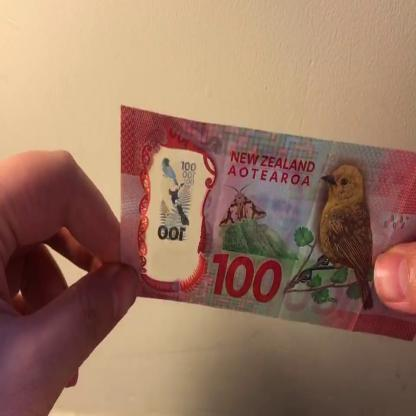100B: (152, 147, 198, 271)
